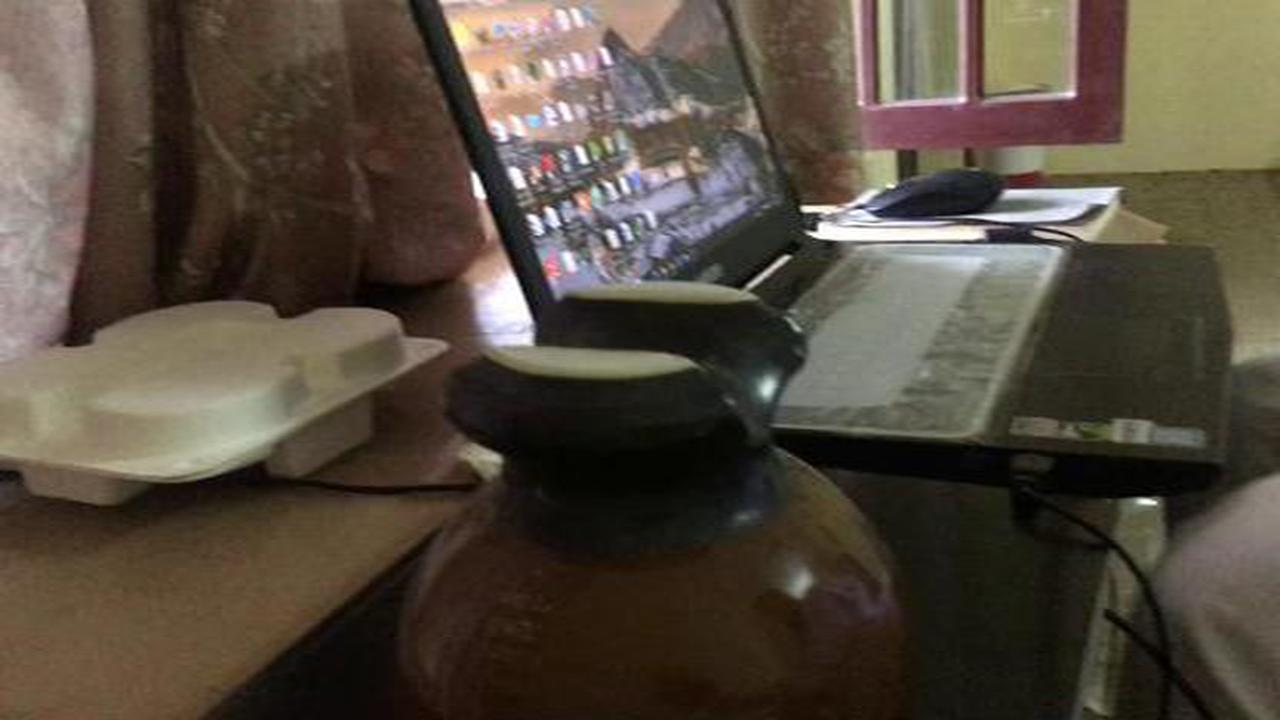insulator_pin: (367, 262, 942, 714)
